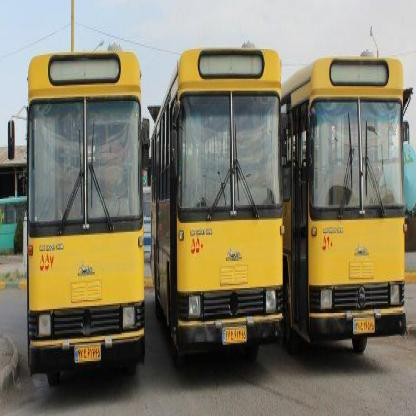Bus: (24, 40, 153, 386), (280, 41, 410, 362), (151, 49, 284, 357)
